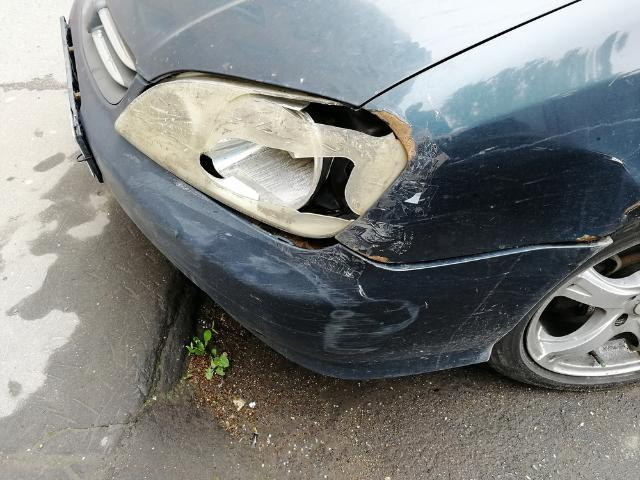dent: (425, 146, 637, 256)
lamp broken: (113, 79, 410, 239)
scratch: (125, 159, 421, 357), (340, 130, 447, 254)
